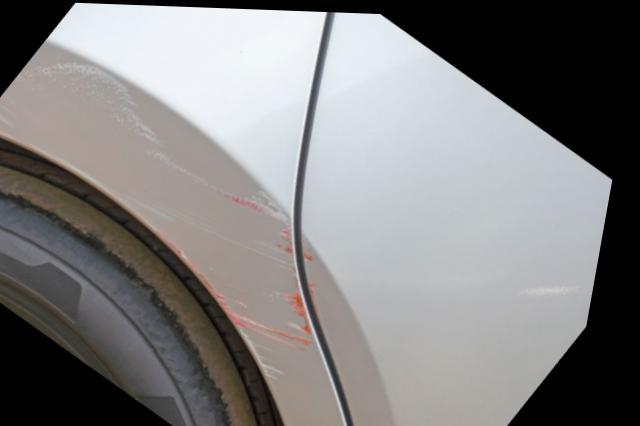scratch: (0, 58, 321, 382)
